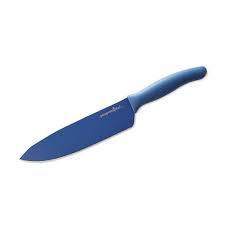knife: (14, 63, 209, 165)
